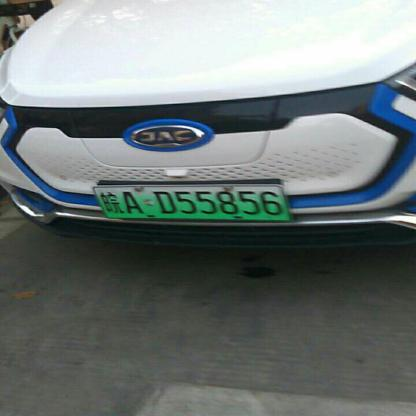lp: (92, 184, 293, 220)
